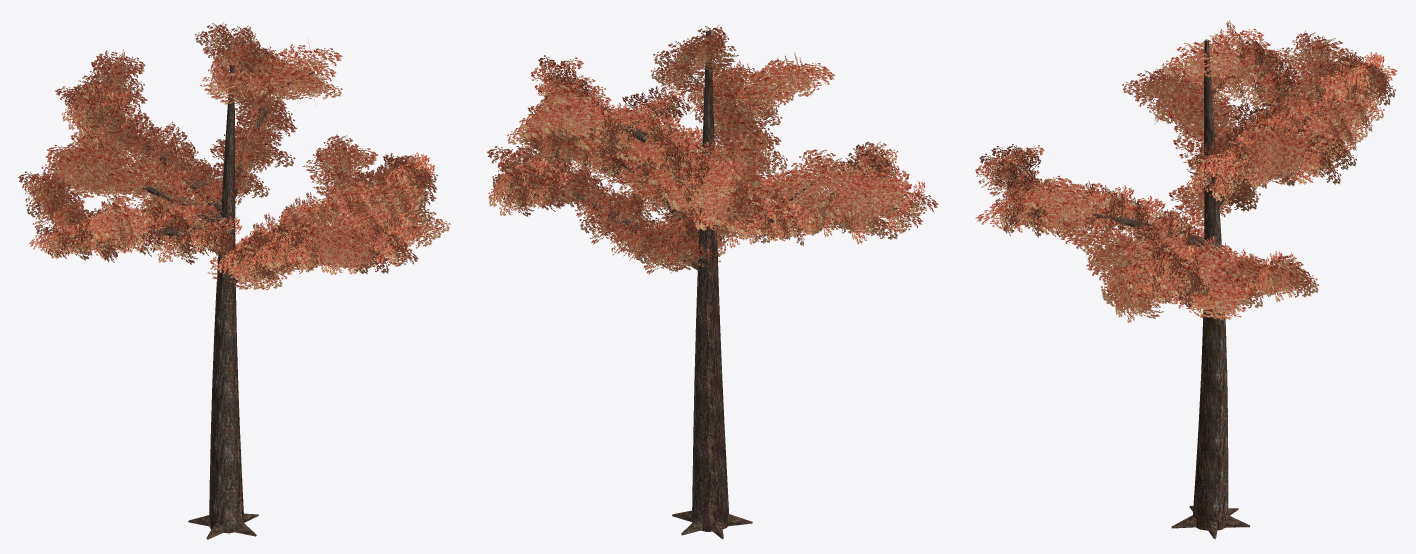
Rendered from tree_3d_03_copper_lod0.glb.
3 renders of one model, left to right at view 1: azimuth 30°, elevation 25°; view 2: azimuth 150°, elevation 25°; view 3: azimuth 270°, elevation 25°, orthographic. The views are drawn at different scales.
Parts seen in each view (by area): view 1: foliage_cards, wood_geometry; view 2: foliage_cards, wood_geometry; view 3: foliage_cards, wood_geometry.
Boxes of the visible parts, bbox=[...] form: foliage_cards: bbox=[18, 22, 450, 290]; wood_geometry: bbox=[47, 45, 417, 539]; foliage_cards: bbox=[486, 24, 938, 274]; wood_geometry: bbox=[525, 30, 897, 539]; foliage_cards: bbox=[975, 20, 1397, 322]; wood_geometry: bbox=[1009, 40, 1368, 538].
Bounding box in the file's own units: 9.89 × 10.63 × 8.44.
2 materials, 2 textured.
